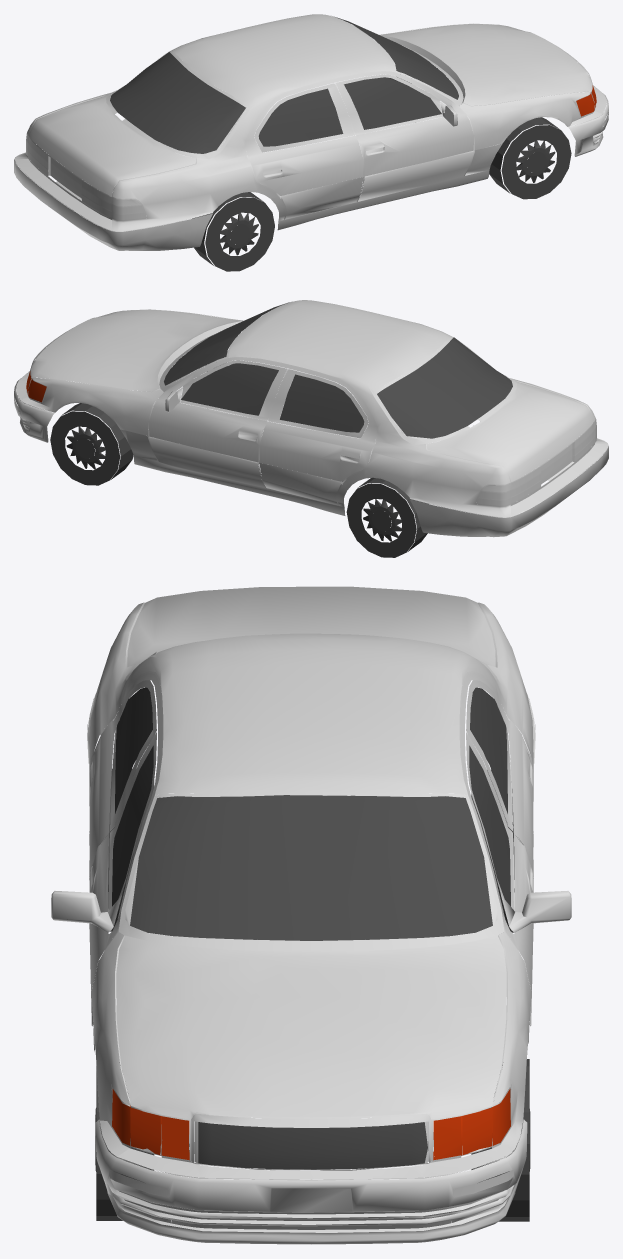
File: car.glb
3 views of the same model, one above another, from view 1: azimuth 30°, elevation 25°; view 2: azimuth 150°, elevation 25°; view 3: azimuth 270°, elevation 25° (orthographic). The views are drawn at different scales.
Visible parts, largest first — view 1: CAR_GLASS; view 2: CAR_GLASS; view 3: CAR_GLASS.
Boxes of the visible parts, left/top/right/bottom form: CAR_GLASS: left=14, top=14, right=608, bottom=271; CAR_GLASS: left=14, top=300, right=608, bottom=557; CAR_GLASS: left=51, top=586, right=571, bottom=1244.
Bounding box in the file's own units: 4.98 × 1.45 × 2.14.
